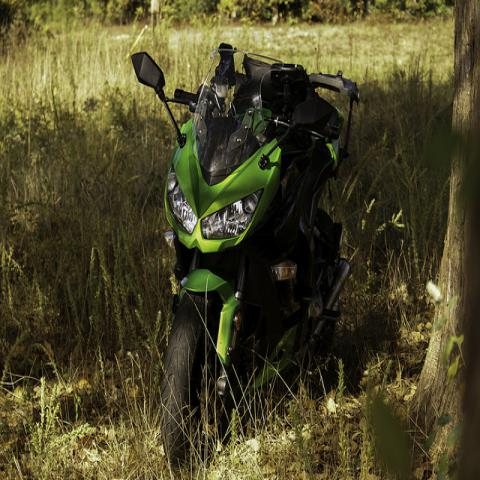motorcycle: (131, 41, 365, 467)
